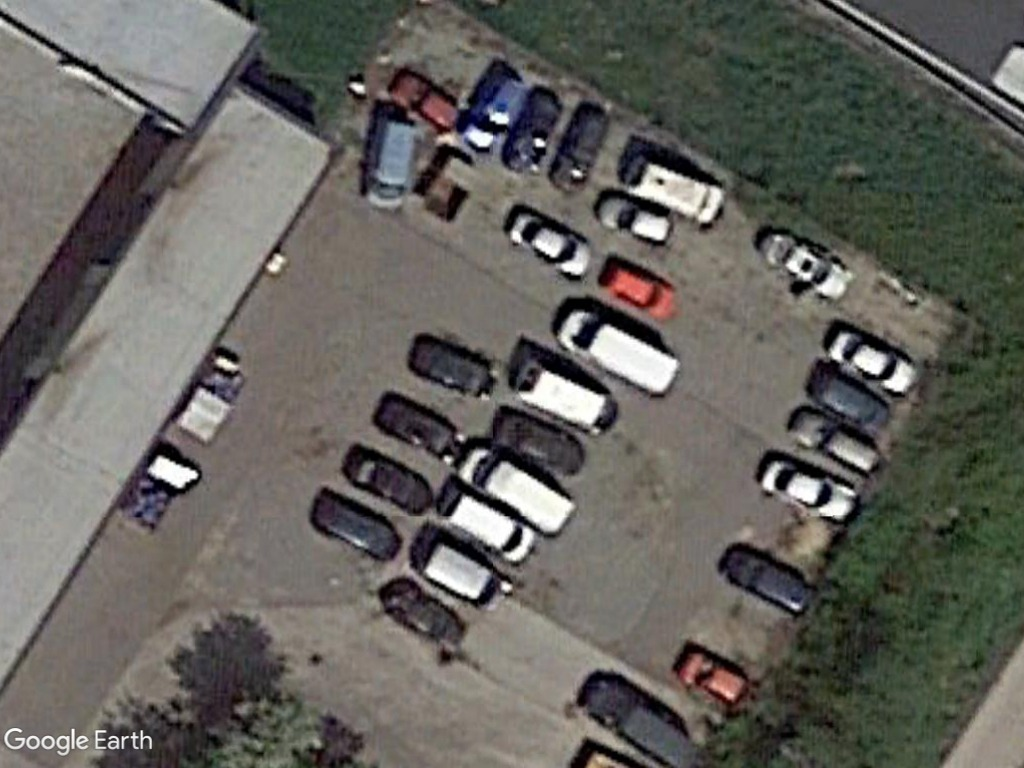car: (782, 396, 887, 480), (760, 445, 865, 524), (713, 546, 825, 620), (825, 327, 921, 400), (500, 207, 593, 280), (461, 67, 534, 159), (598, 258, 683, 323), (678, 647, 758, 709), (594, 191, 675, 244)
van: (557, 304, 682, 399), (460, 445, 577, 538), (432, 486, 537, 562), (360, 119, 421, 213)
